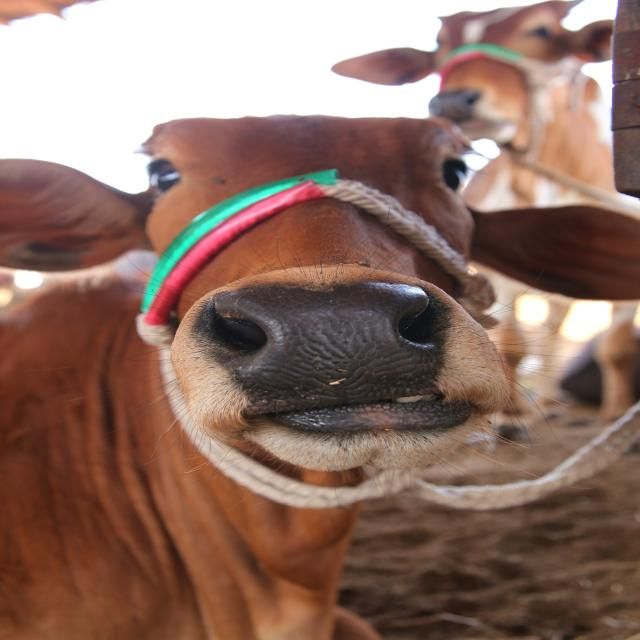muzzles: (194, 278, 460, 432)
